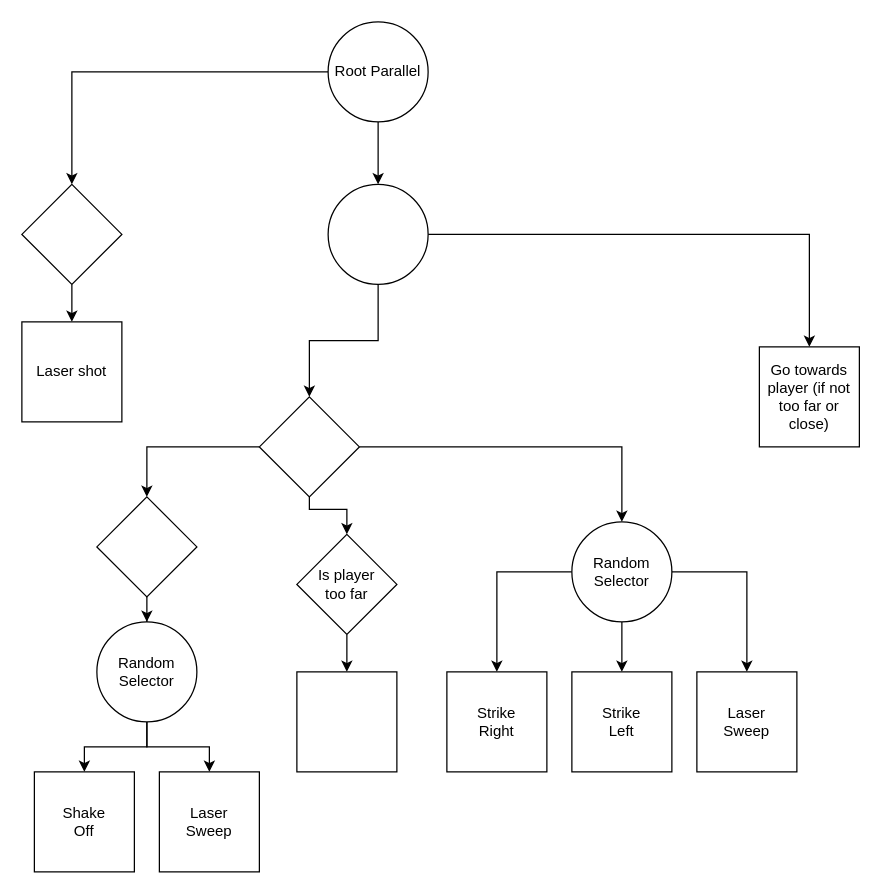
Some shapes in this 881 by 894 pixel diagram are drawn without their labels. The shapes that lost their labels are listed below. From the top down, each one's centre as x and y in pixels, then its label:
At pixel 71 233: "Random Cooldown".
At pixel 377 233: "Selector".
At pixel 308 446: "Cooldown".
At pixel 146 546: "Is Player On Boss".
At pixel 346 721: "Jump".
